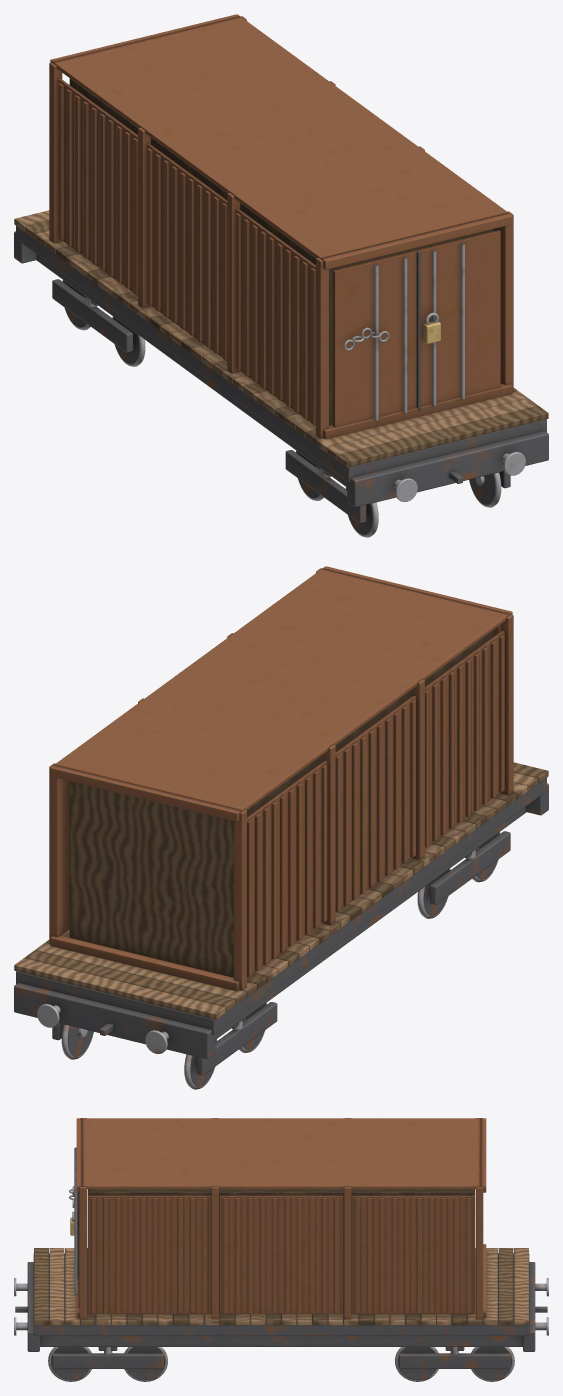
Rendered from container_wagon.glb.
3 renders of one model, top to bottom at view 1: azimuth 30°, elevation 25°; view 2: azimuth 150°, elevation 25°; view 3: azimuth 270°, elevation 25°, orthographic. The views are drawn at different scales.
Visible parts, largest first — view 1: Panel_metal_6, Container, Panel_metal_7, Panel_metal_0, Panel_metal_1, Panel_metal_2, WagonWheel_5, WagonWheel_0; view 2: Container, Panel_metal_6, Panel_metal_1, Panel_metal_2, Panel_metal_0, Panel_metal_5, WagonWheel_3, WagonWheel_6; view 3: Container, Panel_metal_6, Panel_metal_3, Panel_metal_5, Panel_metal_4, Panel_metal_7, WagonWheel_3, WagonWheel_5, WagonWheel_1, WagonWheel_7.
Part boxes in pixels (x1=…): Panel_metal_6: x1=53, y1=16, x2=508, y2=259; Container: x1=14, y1=14, x2=548, y2=523; Panel_metal_7: x1=333, y1=230, x2=500, y2=427; Panel_metal_0: x1=235, y1=208, x2=315, y2=425; Panel_metal_1: x1=147, y1=143, x2=227, y2=360; Panel_metal_2: x1=58, y1=78, x2=137, y2=295; WagonWheel_5: x1=469, y1=472, x2=501, y2=507; WagonWheel_0: x1=112, y1=316, x2=145, y2=366; Container: x1=14, y1=566, x2=548, y2=1075; Panel_metal_6: x1=54, y1=568, x2=510, y2=811; Panel_metal_1: x1=335, y1=695, x2=415, y2=912; Panel_metal_2: x1=247, y1=760, x2=327, y2=977; Panel_metal_0: x1=425, y1=630, x2=504, y2=847; Panel_metal_5: x1=62, y1=779, x2=69, y2=934; WagonWheel_3: x1=61, y1=1024, x2=93, y2=1059; WagonWheel_6: x1=417, y1=868, x2=450, y2=918; Container: x1=14, y1=1118, x2=548, y2=1368; Panel_metal_6: x1=81, y1=1118, x2=481, y2=1188; Panel_metal_3: x1=87, y1=1195, x2=211, y2=1313; Panel_metal_5: x1=351, y1=1195, x2=475, y2=1313; Panel_metal_4: x1=219, y1=1195, x2=343, y2=1313; Panel_metal_7: x1=69, y1=1147, x2=79, y2=1308; WagonWheel_3: x1=471, y1=1347, x2=514, y2=1381; WagonWheel_5: x1=48, y1=1347, x2=91, y2=1381; WagonWheel_1: x1=395, y1=1347, x2=438, y2=1381; WagonWheel_7: x1=124, y1=1347, x2=167, y2=1381.
Size of the model in its own units: 2.8 by 3.7 by 8.64.
Materials: 6 (6 with a texture image).
